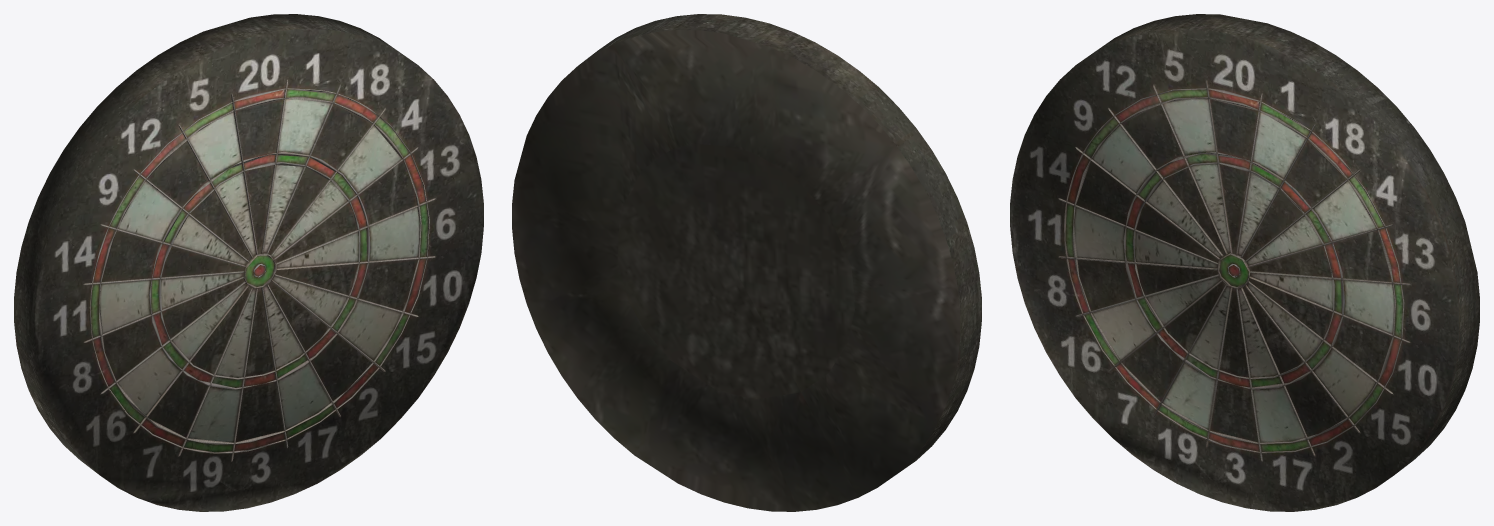
Rendered from dartboard.glb.
3 renders of one model, left to right at view 1: azimuth 30°, elevation 25°; view 2: azimuth 150°, elevation 25°; view 3: azimuth 330°, elevation 25°, orthographic.
Parts seen in each view (by area): view 1: dartboard; view 2: dartboard; view 3: dartboard.
Part boxes in pixels (x1=…): dartboard: x1=14, y1=14, x2=483, y2=511; dartboard: x1=512, y1=14, x2=981, y2=511; dartboard: x1=1010, y1=14, x2=1479, y2=511.
Size of the model in its own units: 0.4507 by 0.4507 by 0.0398.
1 material, 1 textured.
